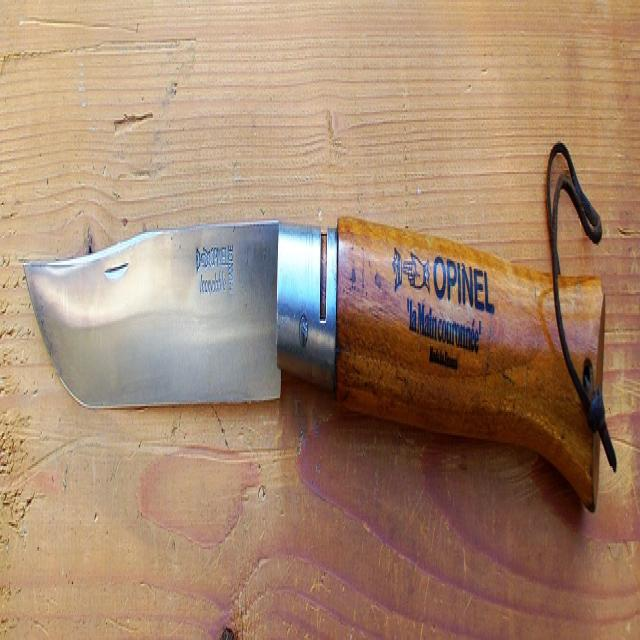knife: (23, 216, 606, 508)
